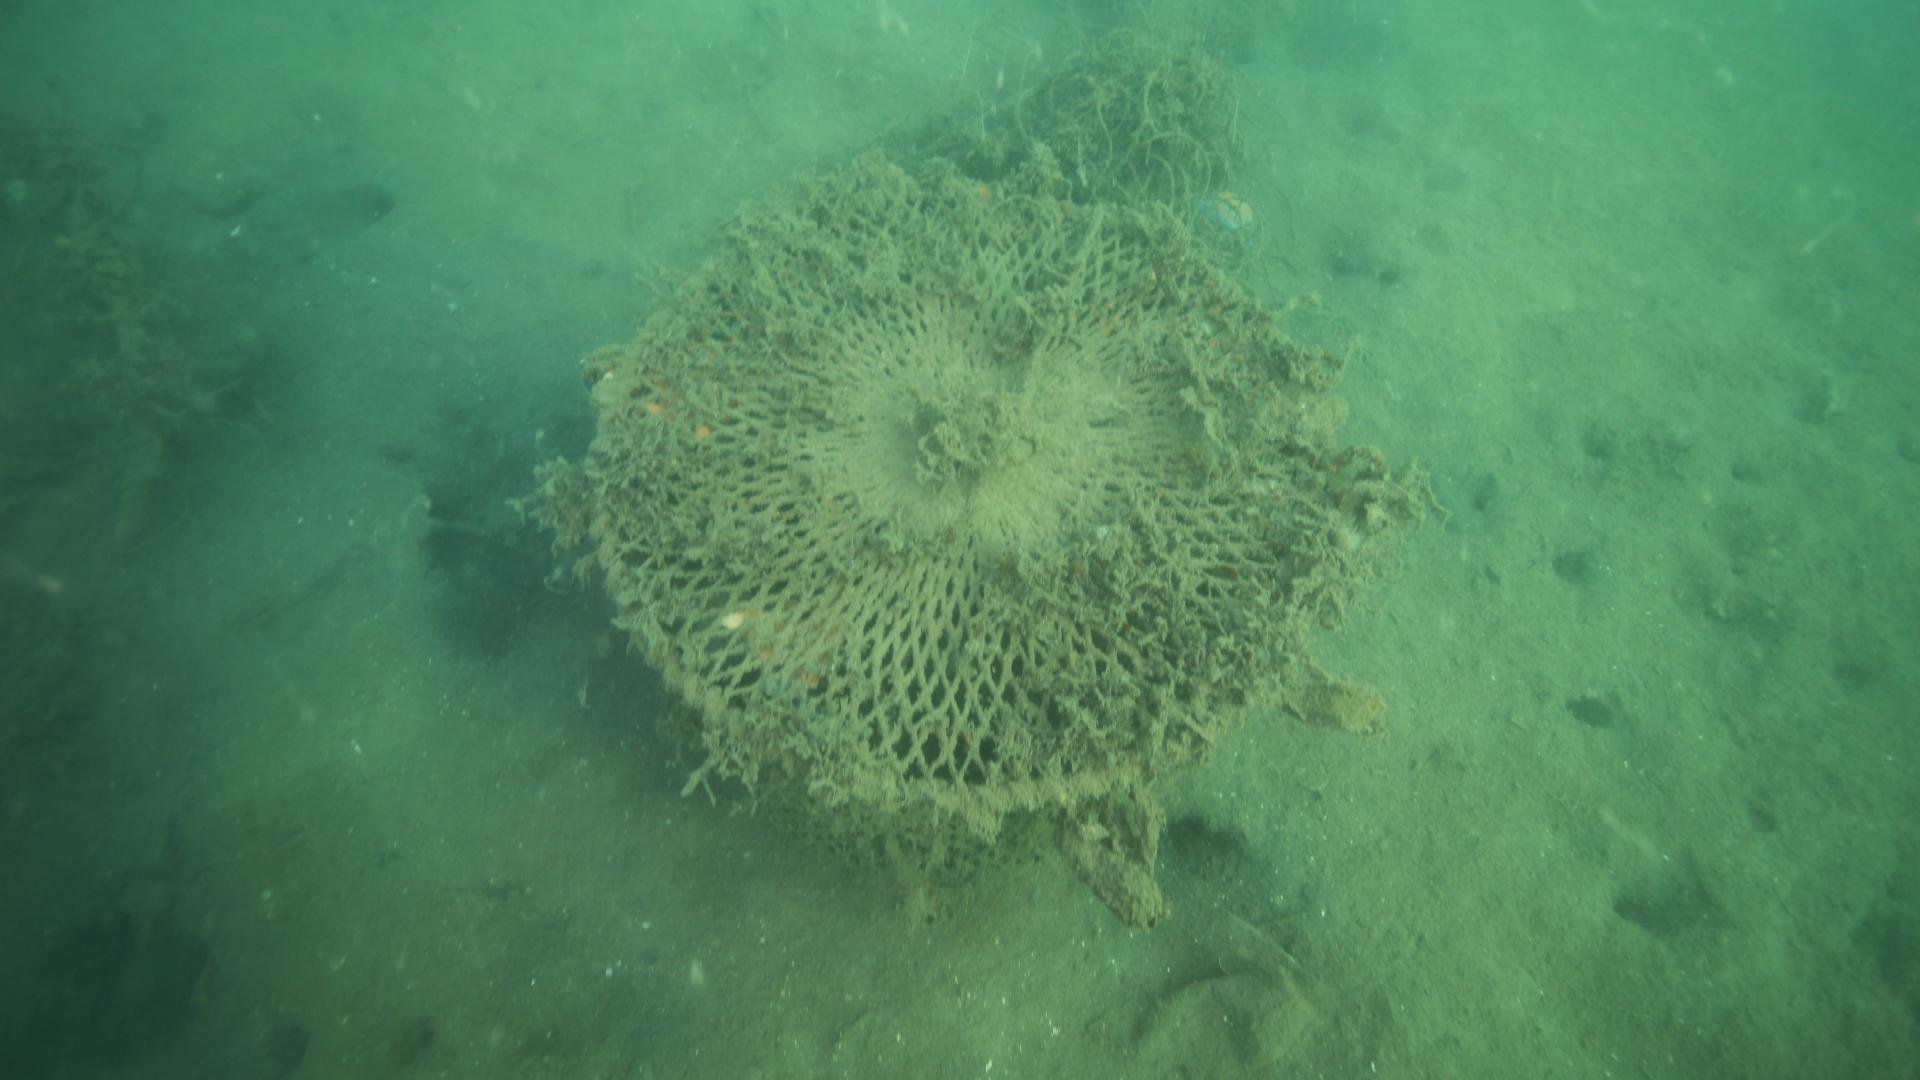circular fish trap: (580, 179, 1342, 872)
